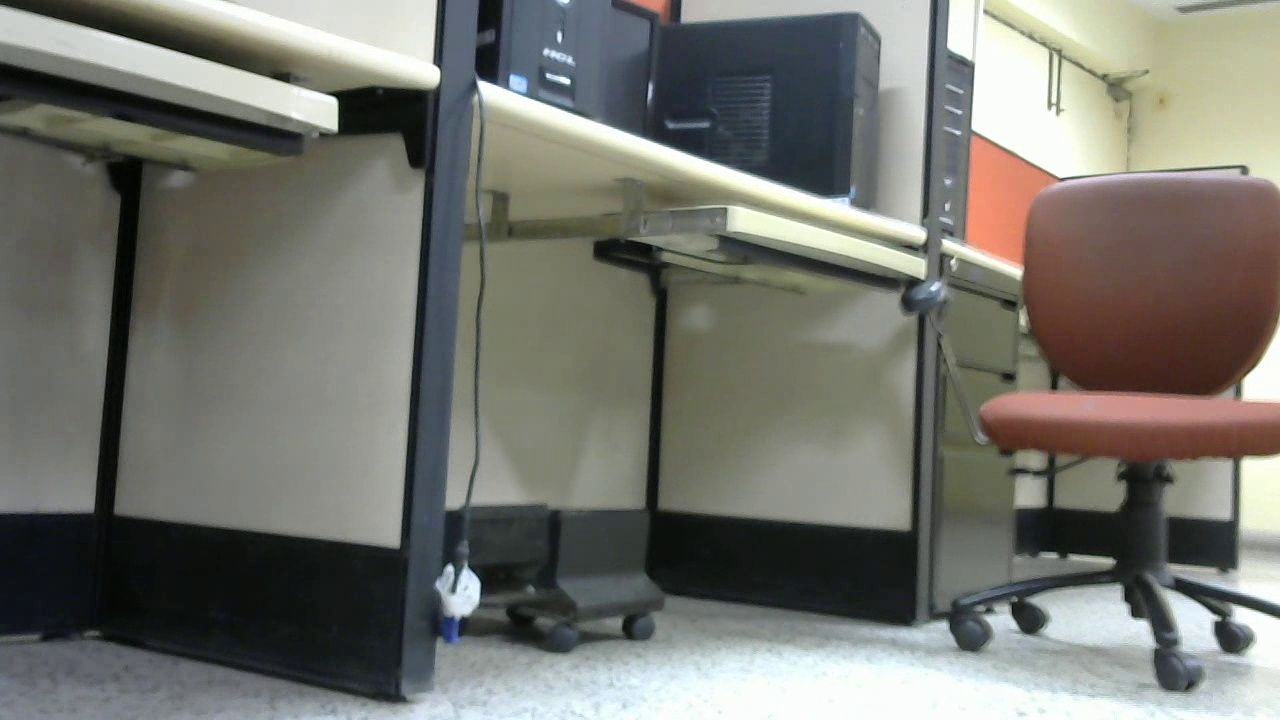chair: (416, 1, 992, 720), (1, 279, 104, 522)
